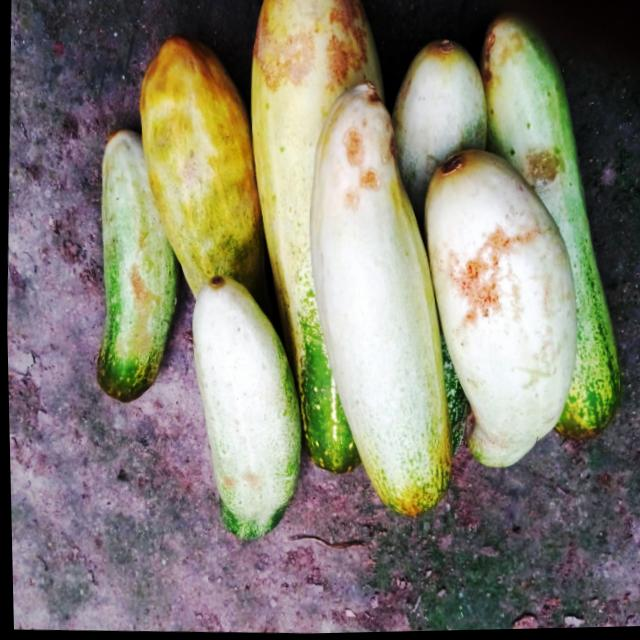Belly-Rot: (249, 0, 375, 100), (441, 219, 541, 333), (329, 121, 399, 218), (120, 263, 161, 357), (478, 25, 519, 99), (521, 146, 562, 193), (215, 470, 255, 494)
